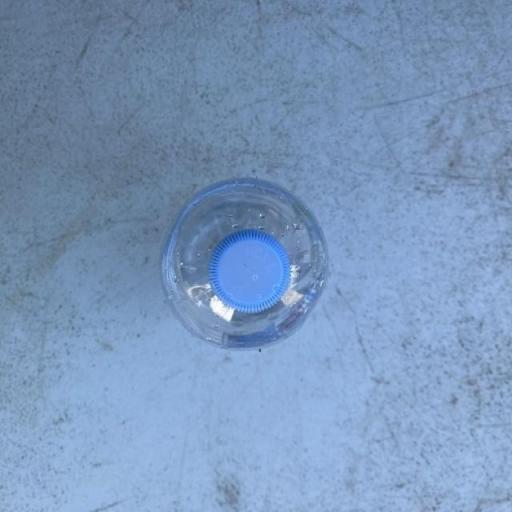plastic: (159, 176, 328, 350)
